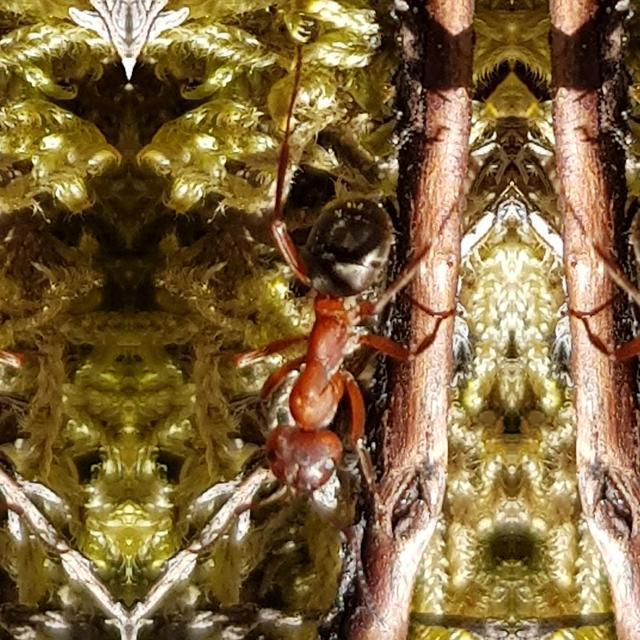Formica: (190, 165, 452, 533), (570, 165, 640, 533), (0, 165, 66, 533)
